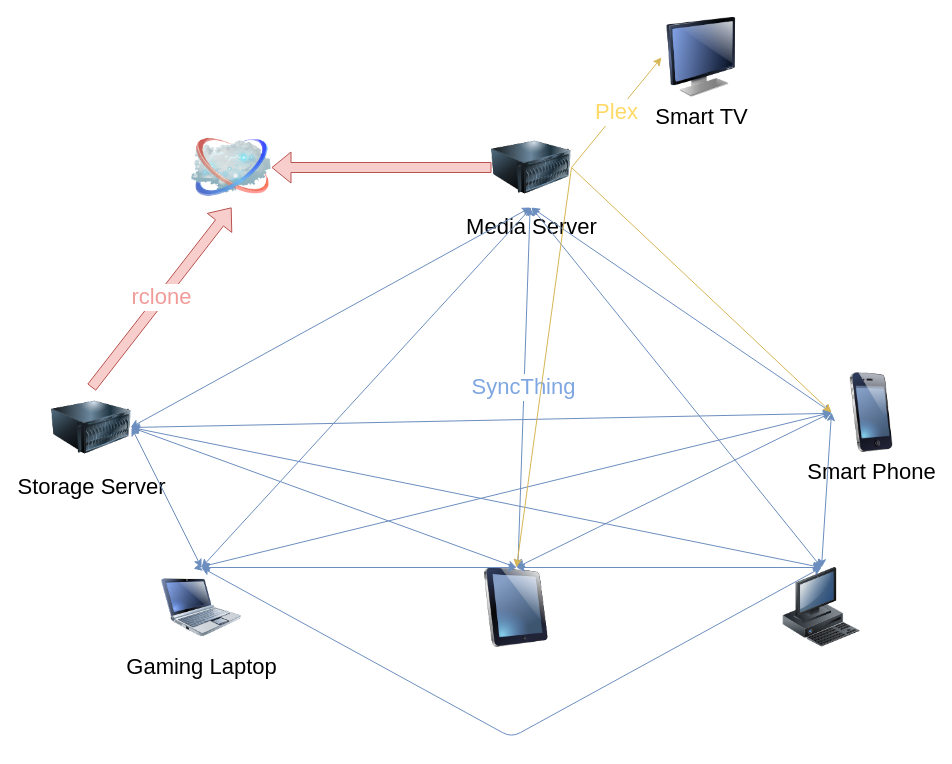
Some shapes in this 952 by 764 pixel diagram are drawn without their labels. The centre of each missing label's shape, as x and y in pixels:
Cloud Storage Service: point 231,167
Home Theatre PC: point 821,607
Tablet: point 516,607
